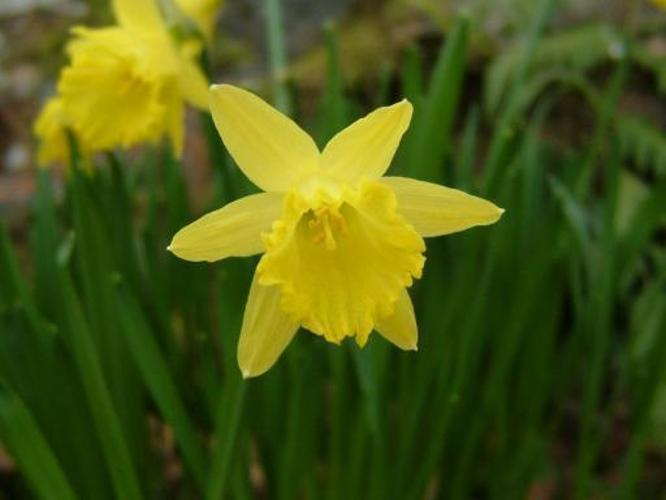flower1: (165, 84, 506, 380)
